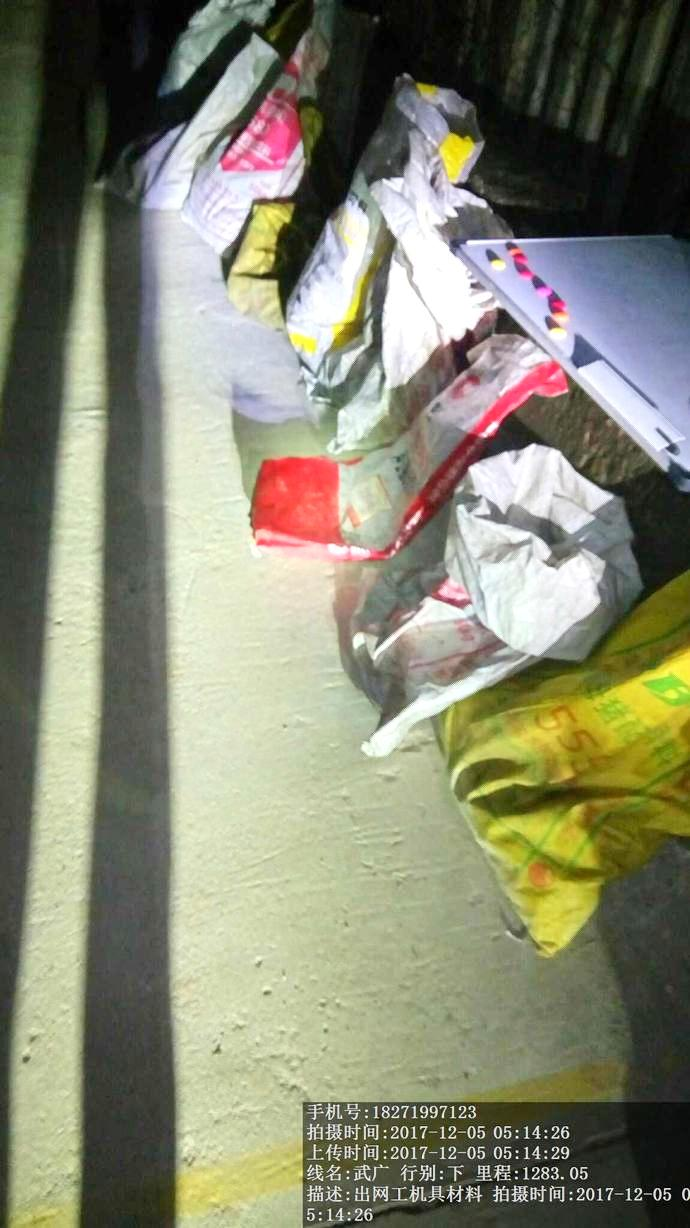BZD: (311, 468, 655, 635)
